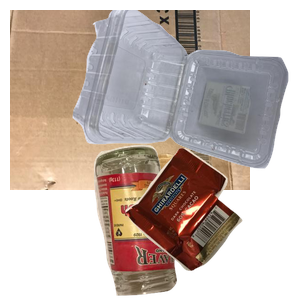cardboard: (10, 10, 250, 190)
glass: (91, 142, 260, 300)
plastic: (70, 10, 300, 171)
trash: (123, 145, 300, 300)
